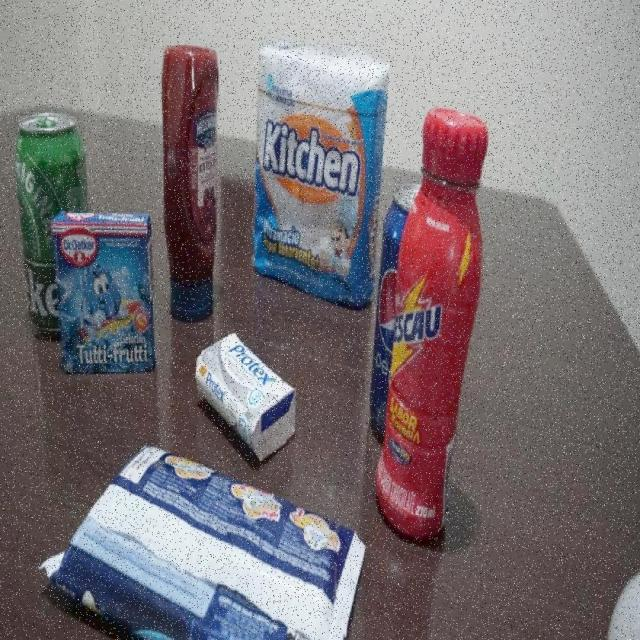BeerCan: (15, 108, 88, 341)
ChocolateMilk: (376, 105, 489, 539)
Gelatine: (50, 212, 158, 375)
Ketchup: (159, 44, 219, 326)
Napkin: (252, 40, 389, 307)
Popcorn: (39, 445, 368, 640)
Soap: (195, 331, 297, 465)
SodaCan: (369, 182, 422, 438)
